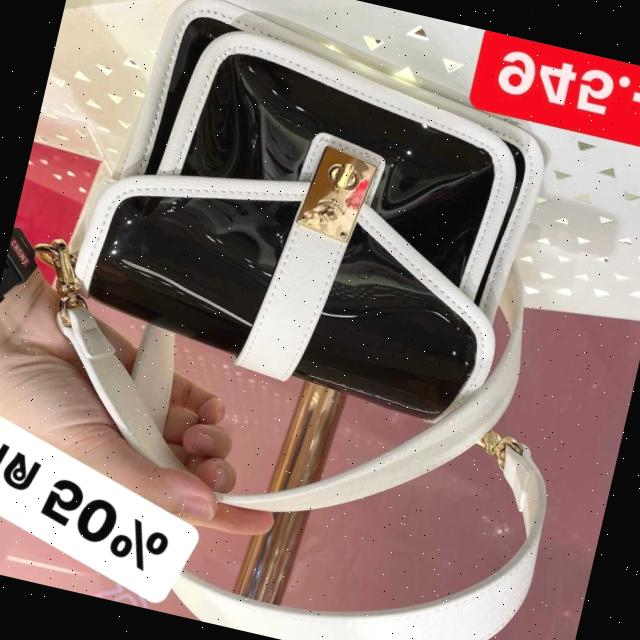handbag: (34, 0, 598, 462)
